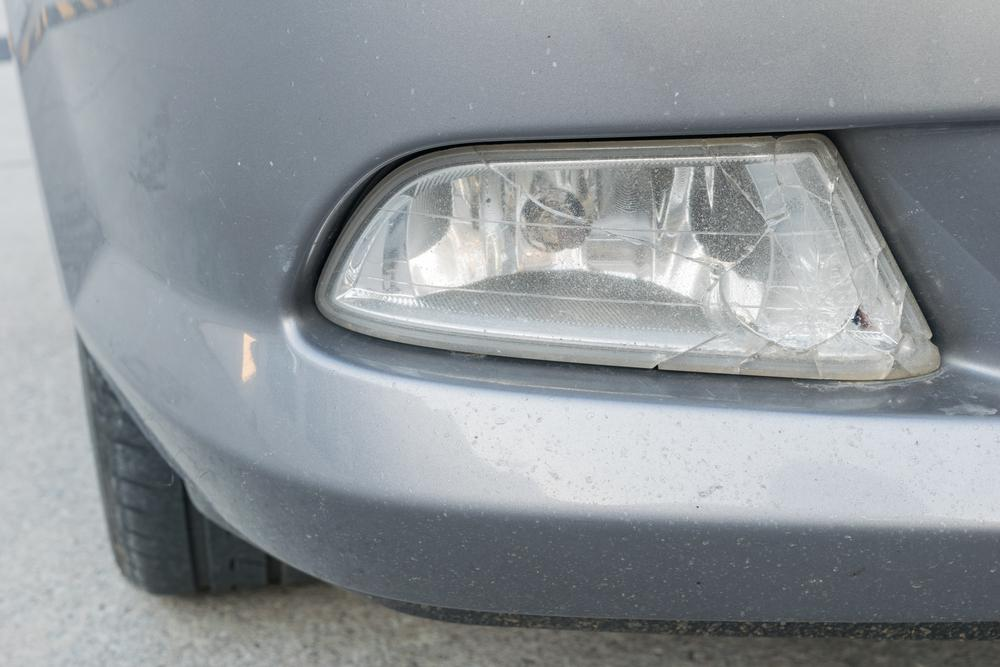lamp broken: (319, 130, 943, 380)
